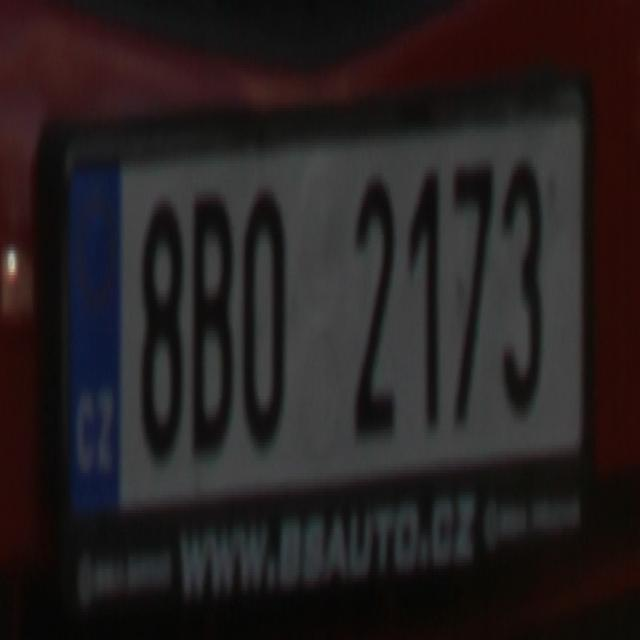0: (241, 186, 285, 452)
1: (411, 170, 444, 427)
2: (353, 170, 394, 436)
3: (502, 155, 546, 408)
7: (447, 157, 498, 420)
8: (139, 198, 184, 454)
B: (188, 182, 235, 467)
